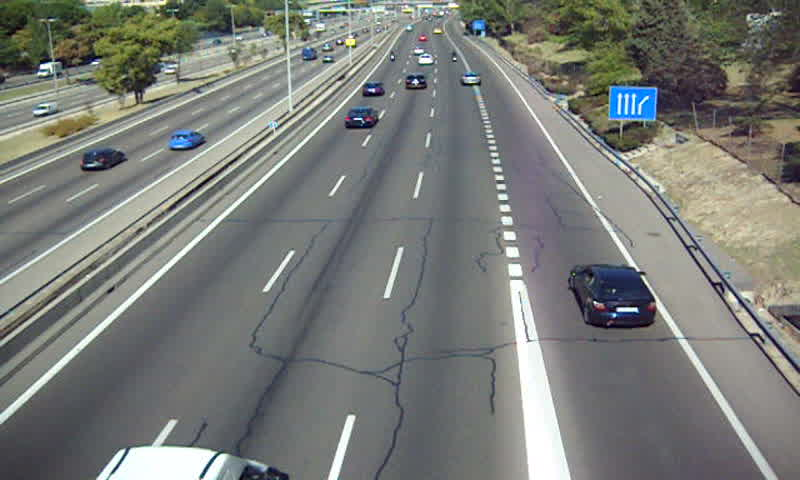car: (569, 264, 656, 325), (344, 108, 376, 129), (403, 73, 427, 92), (362, 82, 384, 100), (460, 72, 482, 87), (416, 53, 435, 65)
